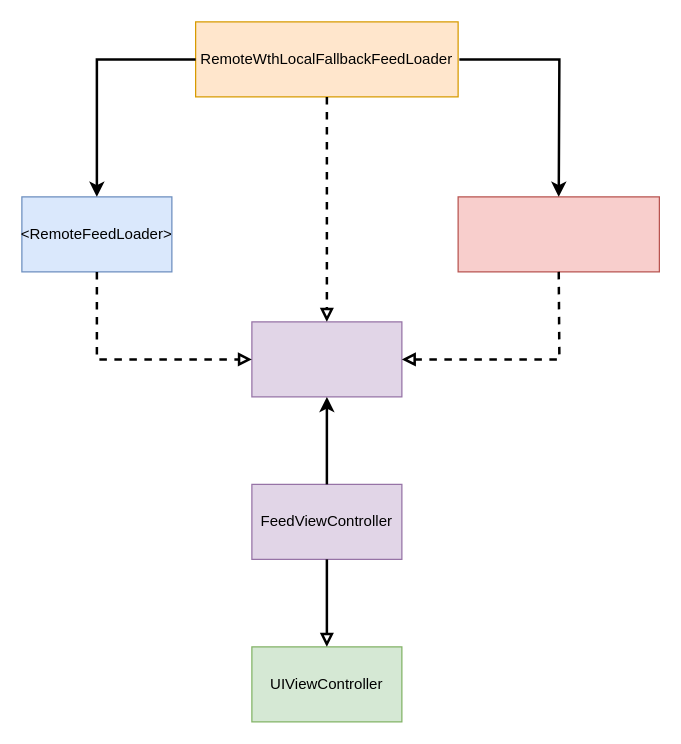
The diagram is 681 pixels wide and 744 high, and some of its shapes have lost their labels. The centre of each missing label's shape, as x and y in pixels:
<FeedLoader>: (x=326, y=359)
<LocalFeedLoader>: (x=558, y=234)
